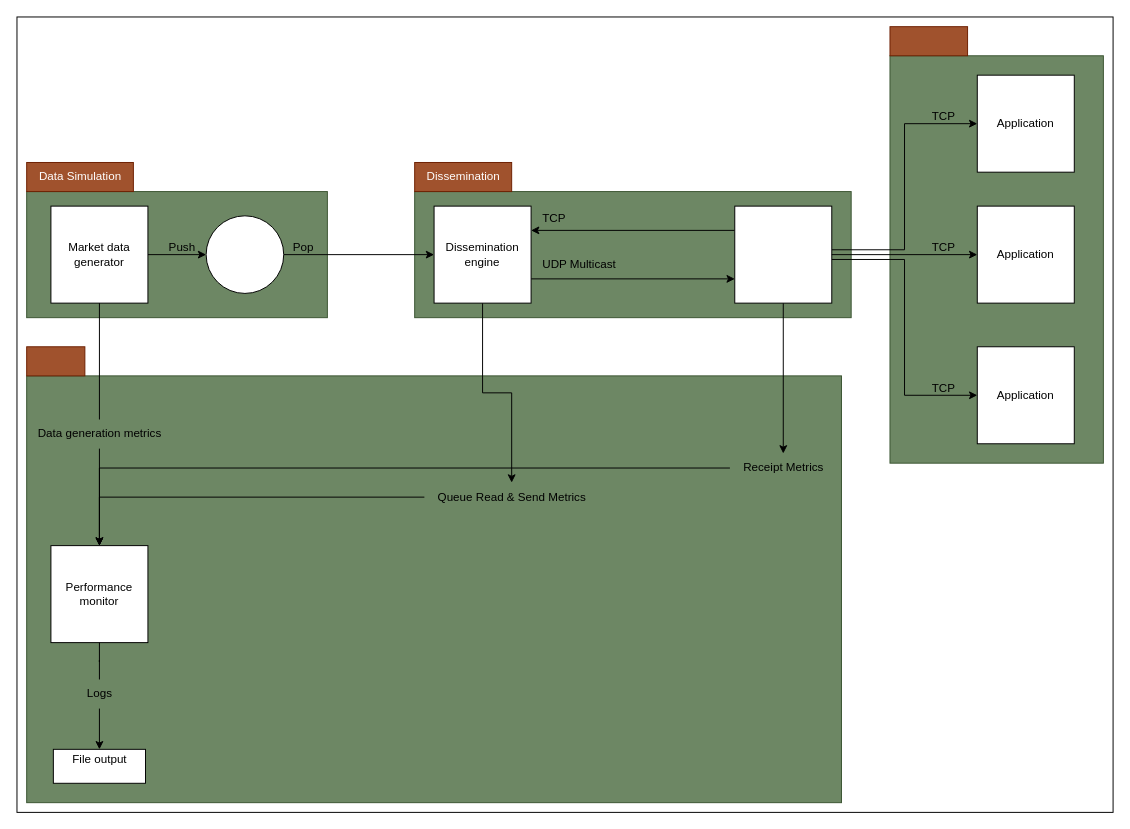
This 1130x829 diagram has some shape labels left out. The box of each missing label's shape, as (x1, y1, x2, y2) in pixels:
Consumers: (889, 26, 968, 56)
Lock-free queue: (205, 215, 284, 293)
Logging: (26, 346, 85, 376)
Subscriber interface: (734, 205, 832, 303)
